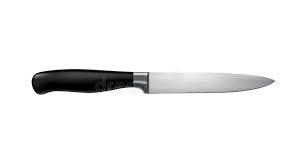Knife: (31, 68, 275, 95)
